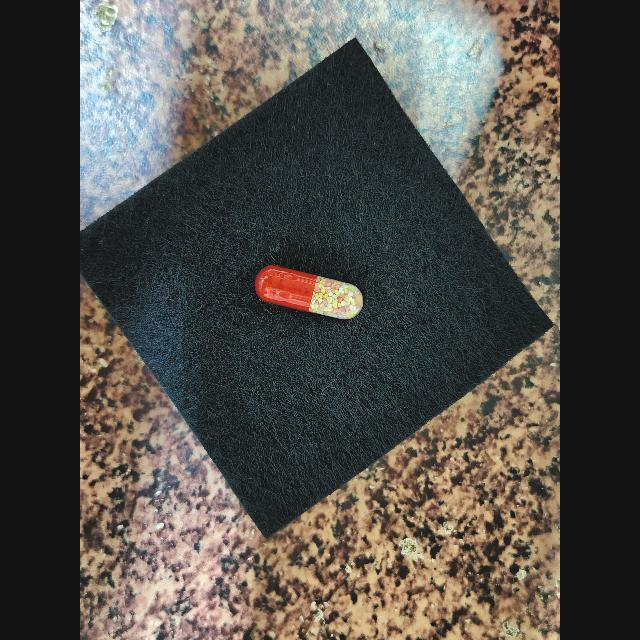Intact Capsule: (255, 265, 363, 320)
